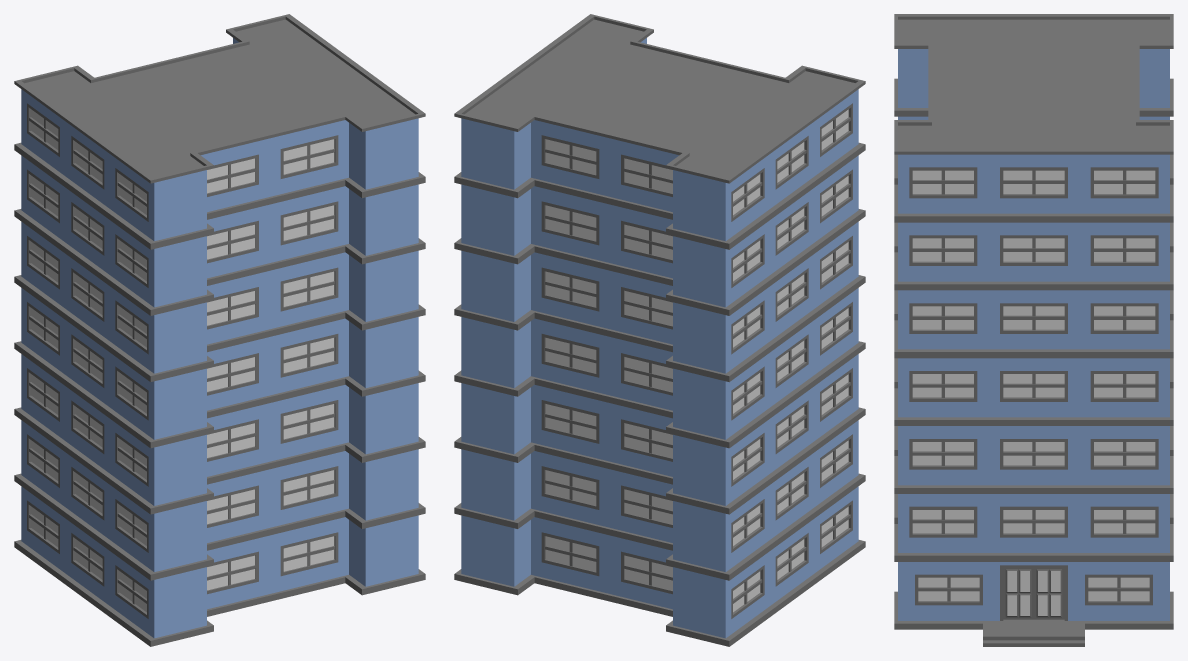
Rendered from business building 12.fbx.
3 views of the same model, side by side, from view 1: azimuth 30°, elevation 25°; view 2: azimuth 150°, elevation 25°; view 3: azimuth 270°, elevation 25° (orthographic). The views are drawn at different scales.
Parts seen in each view (by area): view 1: building_001; view 2: building_001; view 3: building_001.
Part boxes in pixels (bbox=[...]): building_001: bbox=[14, 14, 425, 646]; building_001: bbox=[454, 14, 865, 646]; building_001: bbox=[894, 14, 1173, 646].
Size of the model in its own units: 1076 by 1550 by 820.
